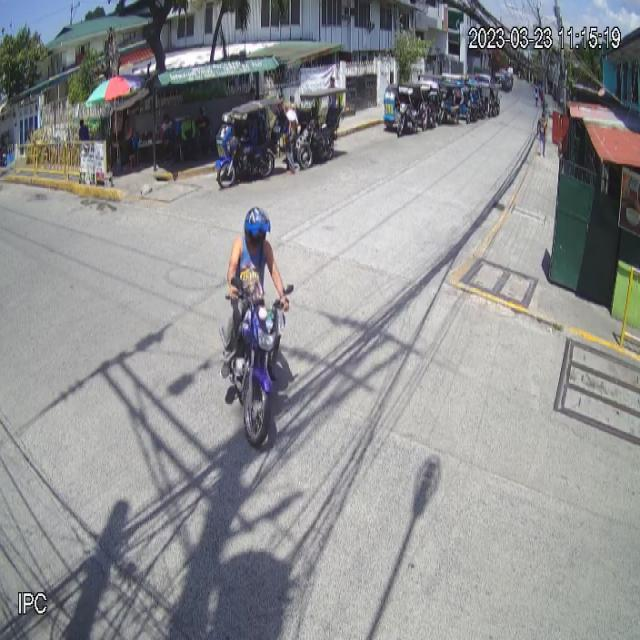Motorcycle: (226, 269, 299, 452)
